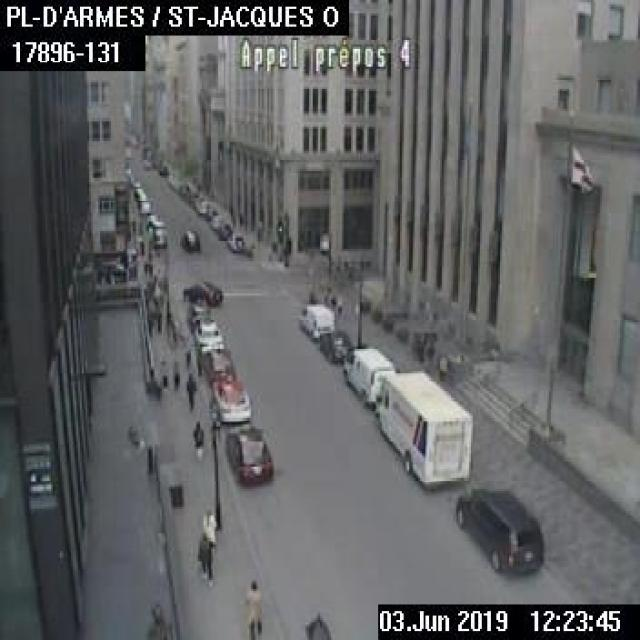pedestrian: (245, 576, 262, 638), (194, 530, 214, 582), (191, 418, 202, 460), (184, 370, 194, 409), (269, 236, 280, 266), (159, 358, 167, 389), (171, 359, 179, 386), (145, 310, 153, 334), (183, 346, 190, 368), (155, 309, 161, 332), (335, 300, 342, 319)
vehicle: (376, 368, 473, 484), (452, 485, 544, 571), (341, 346, 394, 407), (224, 422, 274, 484), (210, 372, 248, 421), (297, 302, 333, 338), (318, 328, 352, 362), (201, 347, 233, 382), (194, 317, 223, 353), (180, 281, 221, 305), (188, 299, 210, 327), (200, 508, 215, 542), (98, 258, 124, 274), (179, 229, 198, 249), (225, 230, 243, 251), (150, 221, 167, 243), (216, 220, 231, 237), (144, 214, 159, 228), (137, 198, 151, 213), (209, 213, 222, 227)
